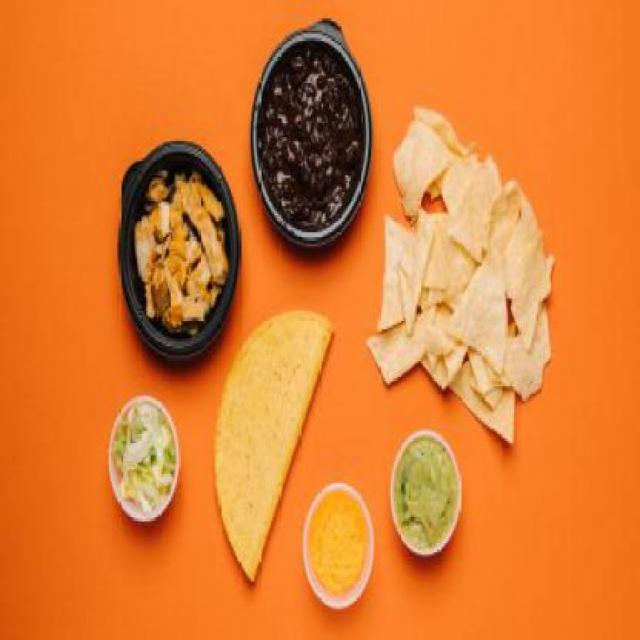chicken quesadilla: (204, 301, 342, 593)
guacamole: (386, 424, 466, 562)
nachos: (372, 92, 551, 446)
